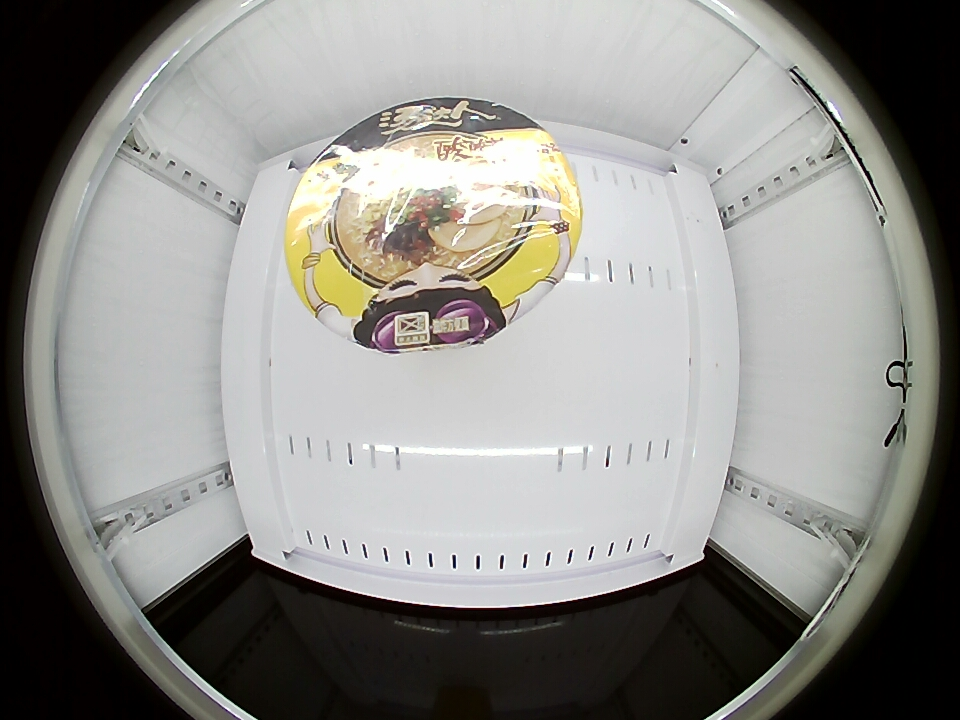tangdaren2: (283, 98, 581, 354)
